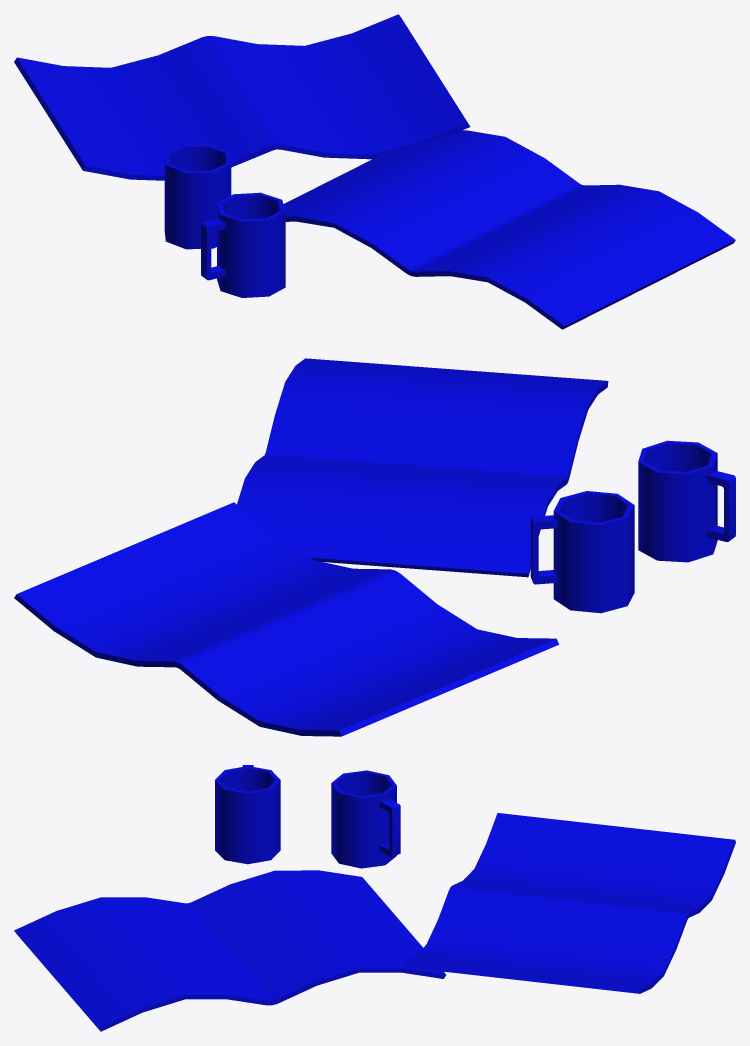
The model's file is ClutterPile_Rec_1.FBX.
3 renders of one model, top to bottom at view 1: azimuth 30°, elevation 25°; view 2: azimuth 150°, elevation 25°; view 3: azimuth 270°, elevation 25°, orthographic. The views are drawn at different scales.
Visible parts, largest first — view 1: ClutterPile_Rec_1; view 2: ClutterPile_Rec_1; view 3: ClutterPile_Rec_1.
Boxes of the visible parts, x1=… form: ClutterPile_Rec_1: x1=14, y1=14, x2=735, y2=329; ClutterPile_Rec_1: x1=14, y1=358, x2=735, y2=736; ClutterPile_Rec_1: x1=14, y1=765, x2=735, y2=1031.
Bounding box in the file's own units: 16.37 × 2.65 × 24.57.
